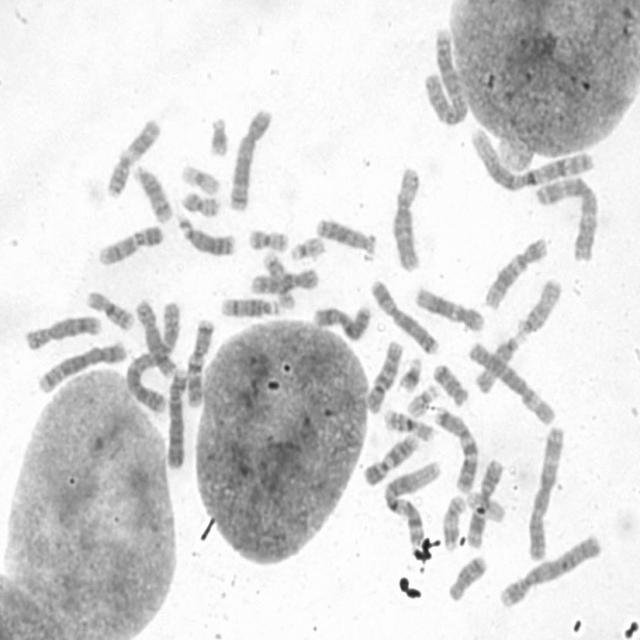A1: (468, 124, 595, 192), (379, 456, 443, 548)
A2: (123, 296, 183, 415), (420, 22, 471, 128)
A3: (532, 172, 601, 263), (524, 422, 567, 562)
B4: (495, 530, 603, 610), (164, 364, 190, 470)
B5: (35, 337, 129, 395), (226, 103, 274, 213)
C10: (362, 335, 405, 415), (247, 264, 320, 296)
C11: (102, 113, 163, 200), (463, 454, 506, 548)
C12: (481, 232, 550, 311), (411, 282, 486, 334)
C6: (465, 336, 558, 427), (389, 162, 425, 274)
C7: (431, 402, 482, 496), (182, 314, 216, 408)
C8: (131, 295, 178, 378), (22, 309, 102, 352)
C9: (360, 428, 421, 488), (95, 220, 166, 266)
D13: (312, 212, 378, 256), (175, 212, 238, 258)
D14: (130, 161, 174, 224), (216, 292, 284, 319)
D15: (474, 326, 528, 395), (513, 273, 563, 336)
E16: (83, 286, 137, 332), (379, 403, 436, 443)
E17: (259, 248, 298, 311), (439, 491, 467, 552)
E18: (444, 550, 490, 603), (429, 358, 471, 408)
F19: (463, 486, 507, 524), (177, 160, 223, 196)
F20: (178, 186, 222, 218), (244, 223, 290, 253)
G21: (205, 110, 231, 158), (396, 353, 424, 393)
G22: (403, 381, 440, 418), (287, 232, 327, 262)
X: (367, 275, 441, 356), (310, 298, 373, 342)
